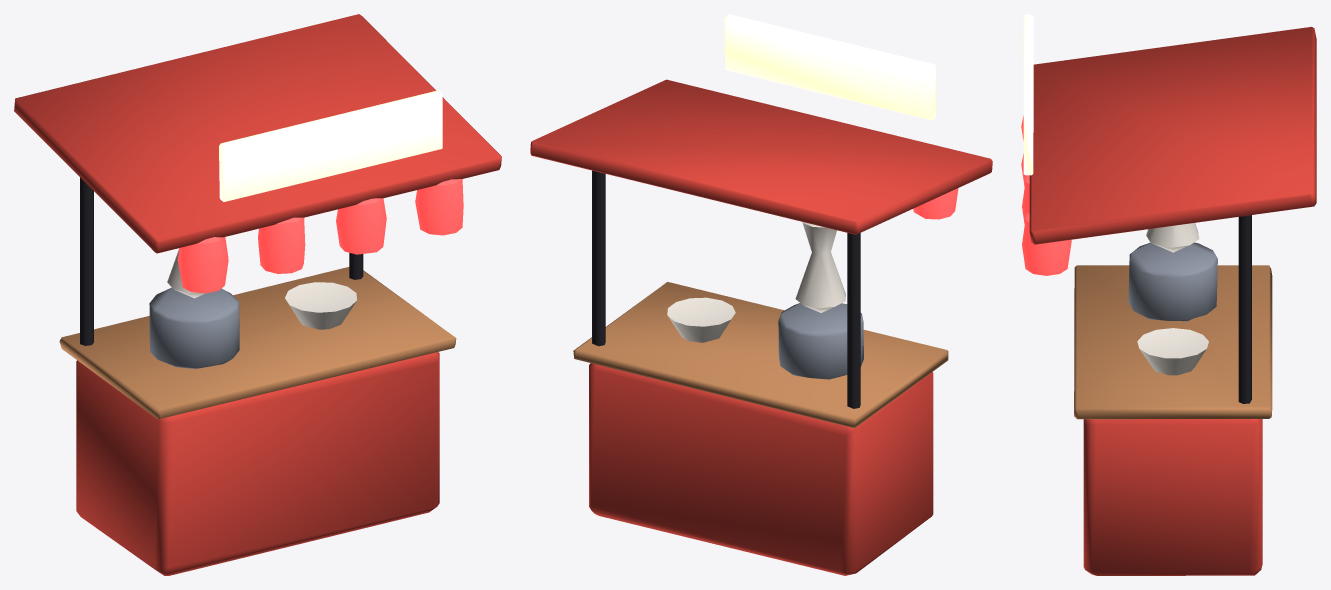
Rendered from noodle_stall.glb.
The picture shows the model from 3 angles, left to right: view 1: azimuth 30°, elevation 25°; view 2: azimuth 150°, elevation 25°; view 3: azimuth 270°, elevation 25°; orthographic projection. The views are drawn at different scales.
Parts seen in each view (by area): view 1: noodle_stall; view 2: noodle_stall; view 3: noodle_stall.
Part boxes in pixels (box(x1,y1,x2,y2)): noodle_stall: box(14, 14, 501, 575); noodle_stall: box(530, 14, 992, 575); noodle_stall: box(1021, 14, 1316, 575).
Bounding box in the file's own units: 2.2 × 2.72 × 1.63.
1 material, 1 textured.
